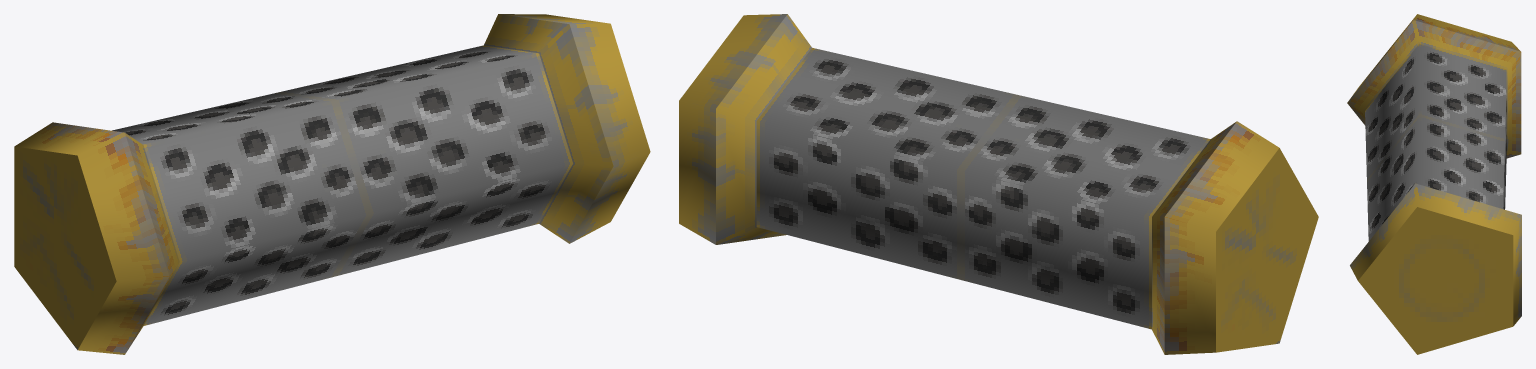
File: sniper_grenade_launch_cluster.fbx
The picture shows the model from 3 angles, left to right: view 1: azimuth 30°, elevation 25°; view 2: azimuth 150°, elevation 25°; view 3: azimuth 270°, elevation 25°; orthographic projection. The views are drawn at different scales.
Visible parts, largest first — view 1: pCylinder1; view 2: pCylinder1; view 3: pCylinder1.
Part boxes in pixels (box(x1,y1,x2,y2)): pCylinder1: box(14, 14, 650, 354); pCylinder1: box(679, 14, 1318, 354); pCylinder1: box(1347, 14, 1521, 354).
Bounding box in the file's own units: 11.26 × 4.49 × 4.28.
1 material, 1 textured.
